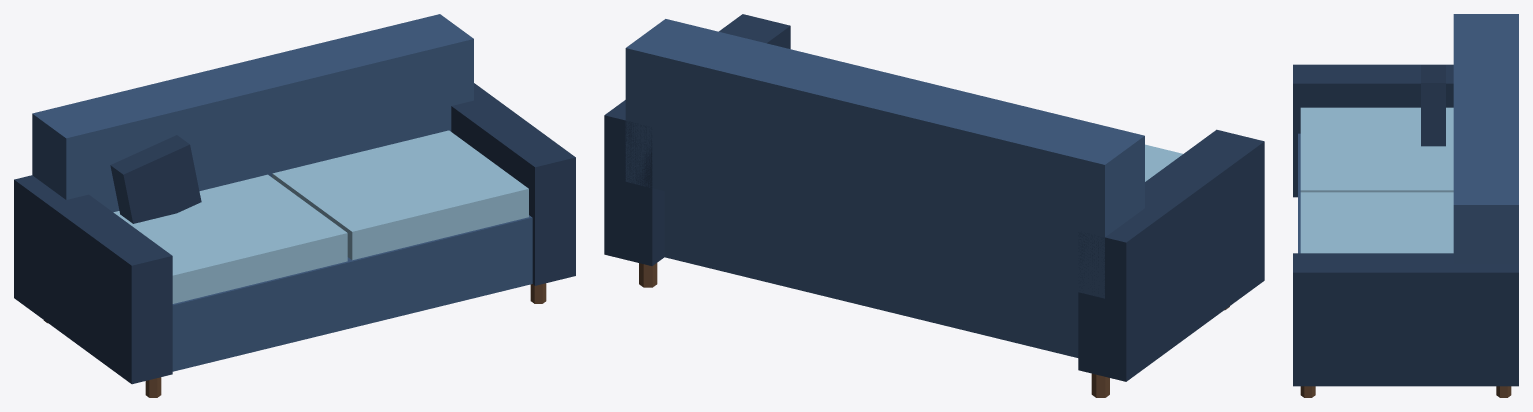
File: sofa.38cf4de052b6.glb
The picture shows the model from 3 angles, left to right: view 1: azimuth 30°, elevation 25°; view 2: azimuth 150°, elevation 25°; view 3: azimuth 270°, elevation 25°; orthographic projection. The views are drawn at different scales.
Visible parts, largest first — view 1: sofa; view 2: sofa; view 3: sofa.
Part boxes in pixels (box(x1,y1,x2,y2)): sofa: box(14, 14, 575, 397); sofa: box(604, 14, 1264, 397); sofa: box(1293, 14, 1518, 397).
Bounding box in the file's own units: 1.96 × 0.86 × 0.9.
